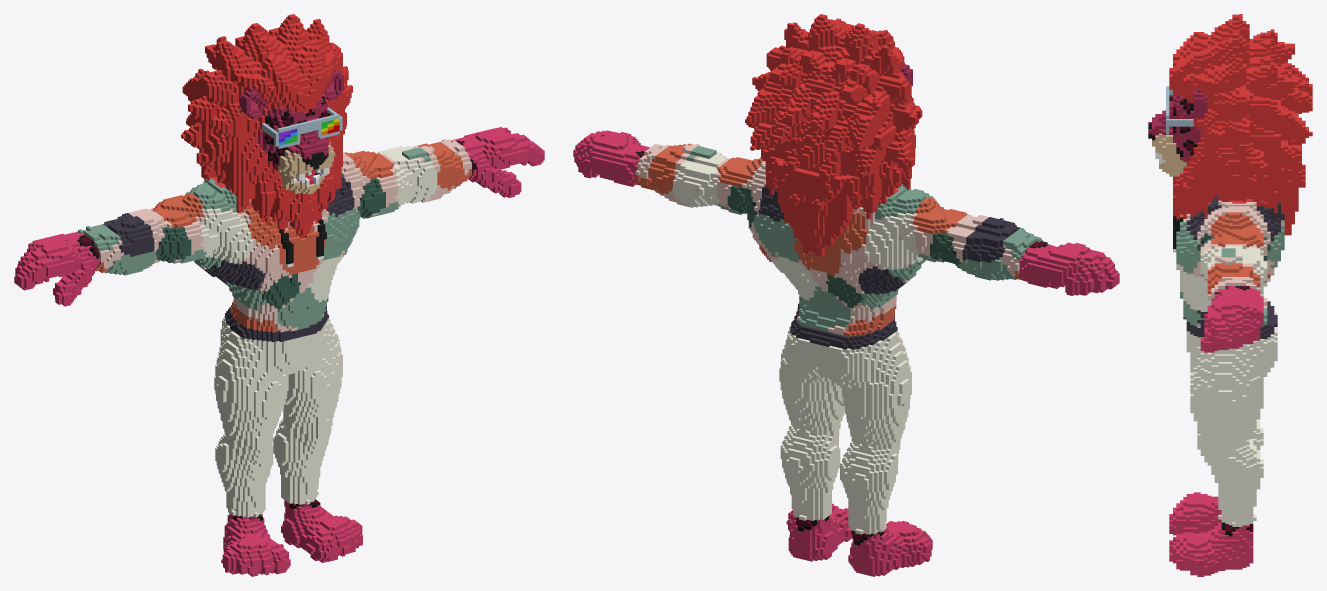
3 views of the same model, side by side, from view 1: azimuth 30°, elevation 25°; view 2: azimuth 150°, elevation 25°; view 3: azimuth 270°, elevation 25° (orthographic). The views are drawn at different scales.
Parts seen in each view (by area): view 1: open; view 2: open; view 3: open.
Part boxes in pixels (box(x1,y1,x2,y2)): open: box(14, 14, 544, 576); open: box(573, 14, 1119, 576); open: box(1148, 14, 1312, 576).
Size of the model in its own units: 17.2 by 16.5 by 4.7.
Materials: 5 (5 with a texture image).
